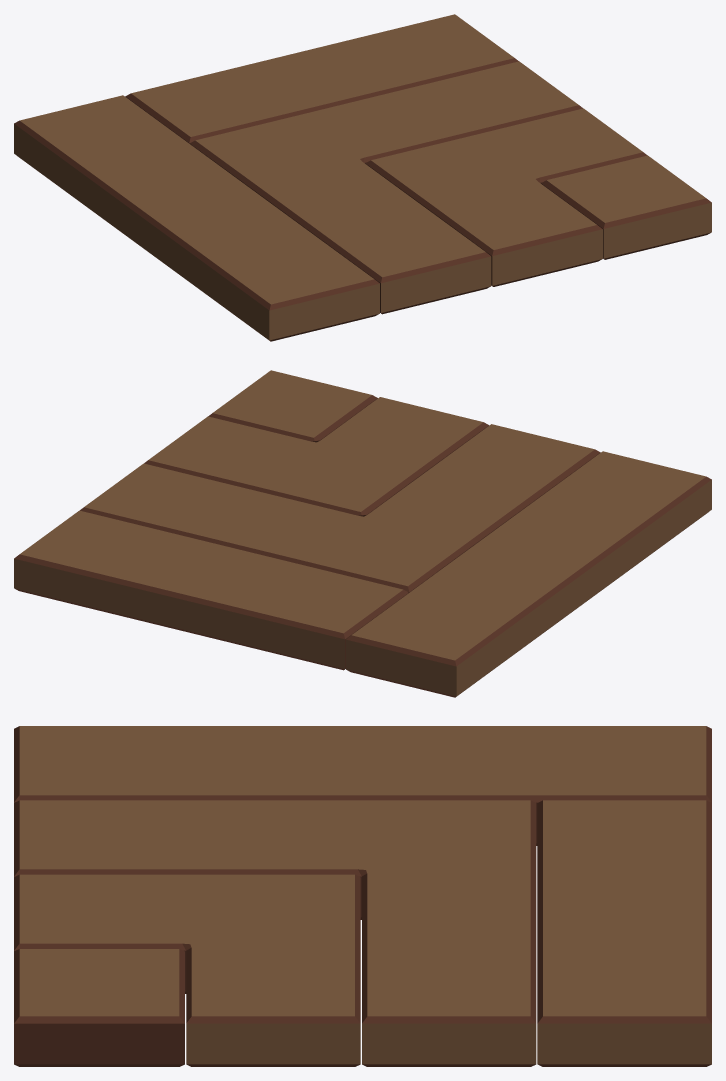
Rendered from Baldosa.fbx.
3 views of the same model, one above another, from view 1: azimuth 30°, elevation 25°; view 2: azimuth 150°, elevation 25°; view 3: azimuth 270°, elevation 25° (orthographic). The views are drawn at different scales.
Parts seen in each view (by area): view 1: pCube32; view 2: pCube32; view 3: pCube32.
Boxes of the visible parts, left/top/right/bottom form: pCube32: left=14, top=14, right=711, bottom=341; pCube32: left=14, top=370, right=711, bottom=697; pCube32: left=14, top=726, right=711, bottom=1066.
Size of the model in its own units: 3 by 0.2393 by 3.
